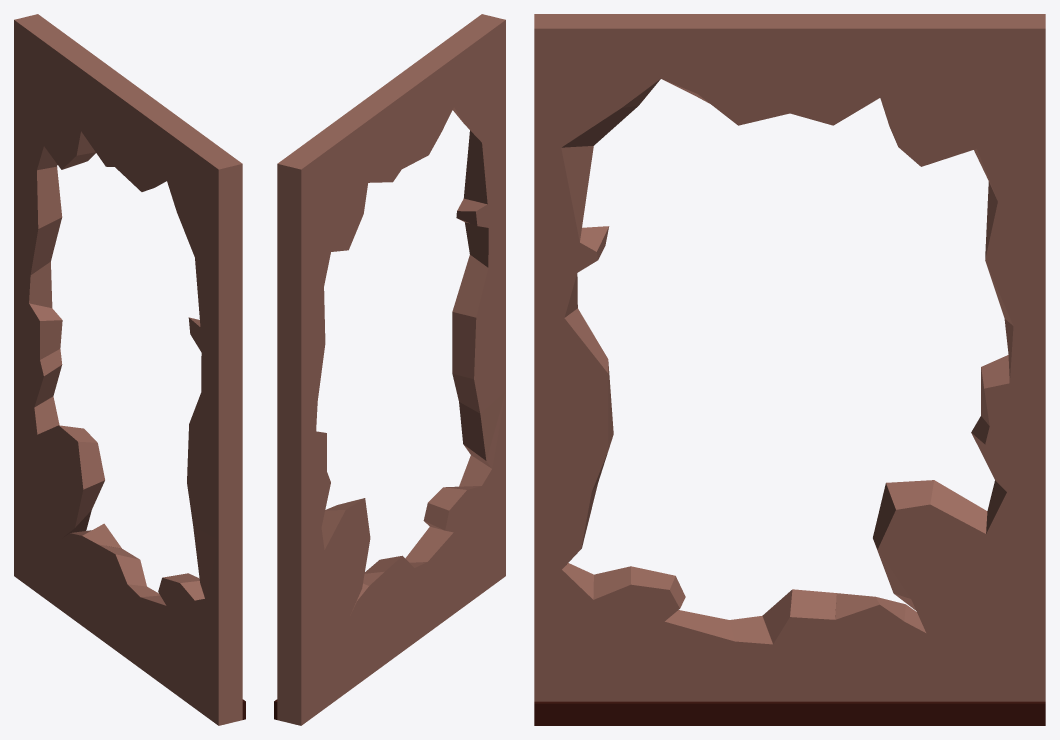
The model's file is T_MurDetruit_04.fbx.
3 renders of one model, left to right at view 1: azimuth 30°, elevation 25°; view 2: azimuth 150°, elevation 25°; view 3: azimuth 270°, elevation 25°, orthographic. The views are drawn at different scales.
Parts seen in each view (by area): view 1: T_MurDetruit_04; view 2: T_MurDetruit_04; view 3: T_MurDetruit_04.
Part boxes in pixels (x1,y1,x2,y2): T_MurDetruit_04: (14,14,245,725); T_MurDetruit_04: (274,14,505,725); T_MurDetruit_04: (534,14,1045,725).
Bounding box in the file's own units: 15.31 × 300 × 200.
